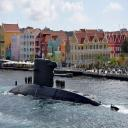submarine: (5, 59, 120, 111)
